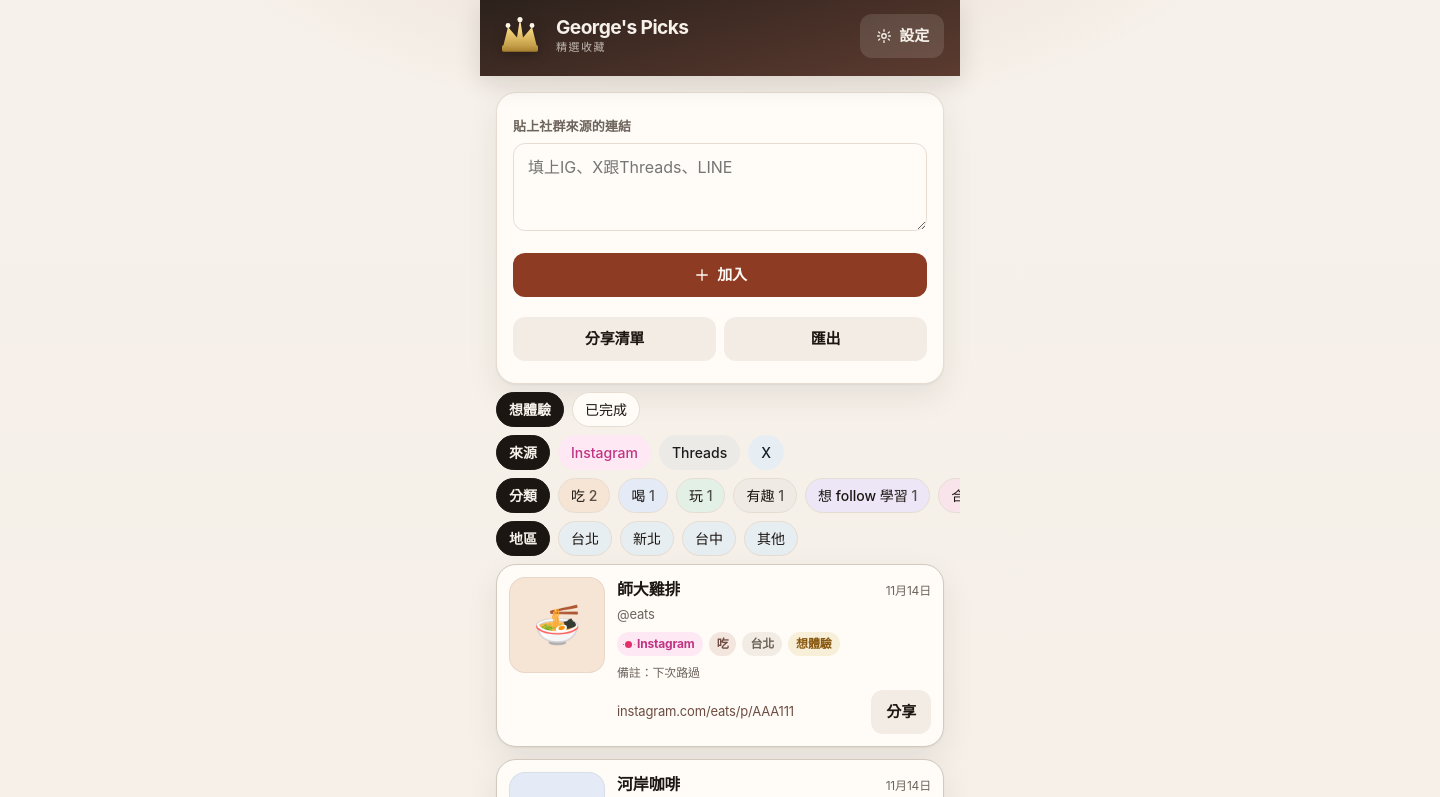
功能: 清單、篩選與地區 › 情境: 以想體驗與已完成分頁檢視
This screenshot has width=1440, height=797.
Later steps or results of the test are not shown.
Expected: the heading "George's Picks" is shown, [556,16,688,38]
Click the button "想體驗" at x=530, y=409, box [496,392,564,426]
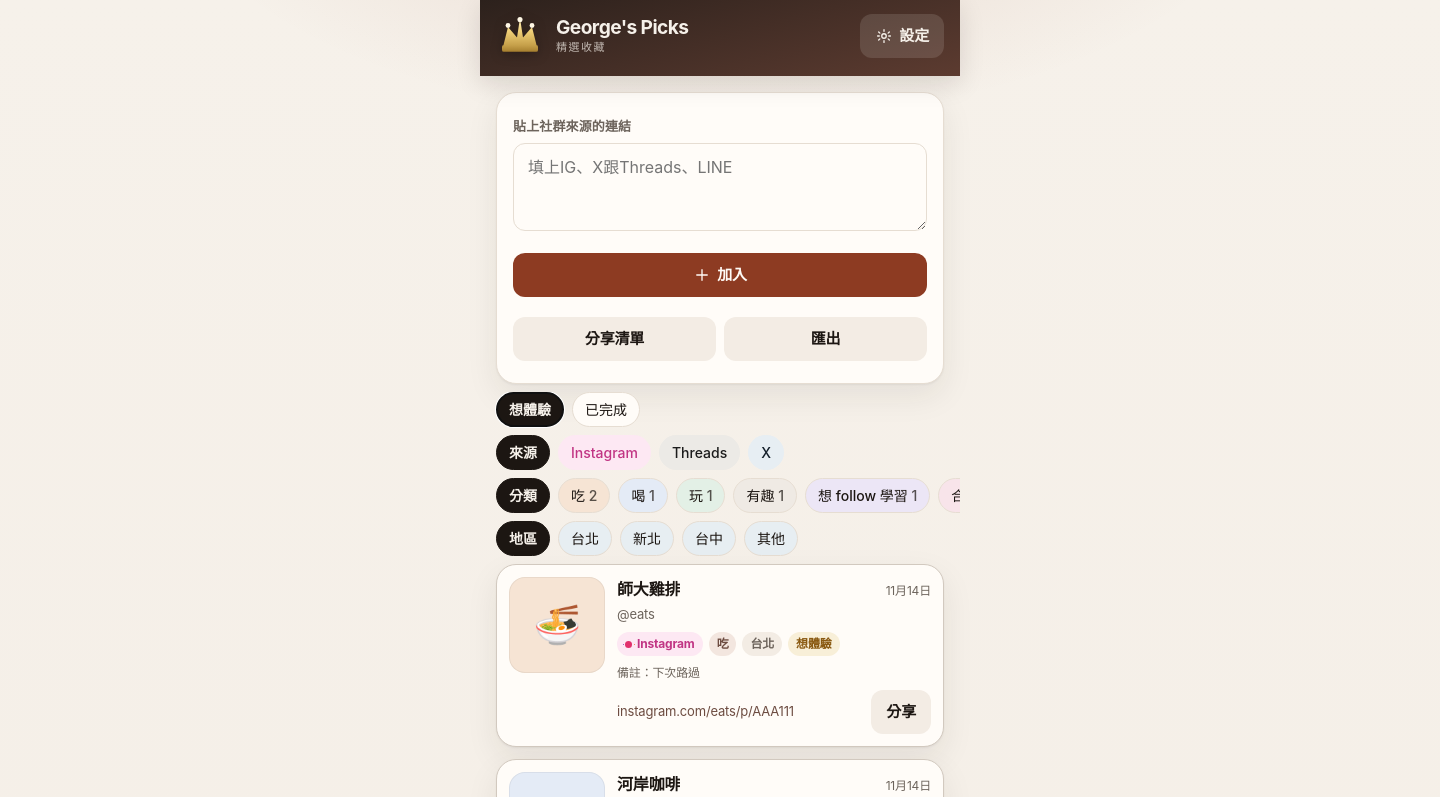
Expected: the text "想體驗" is shown, [788,632,840,656]
Click the button "已完成" at x=606, y=409, box [572,392,640,426]
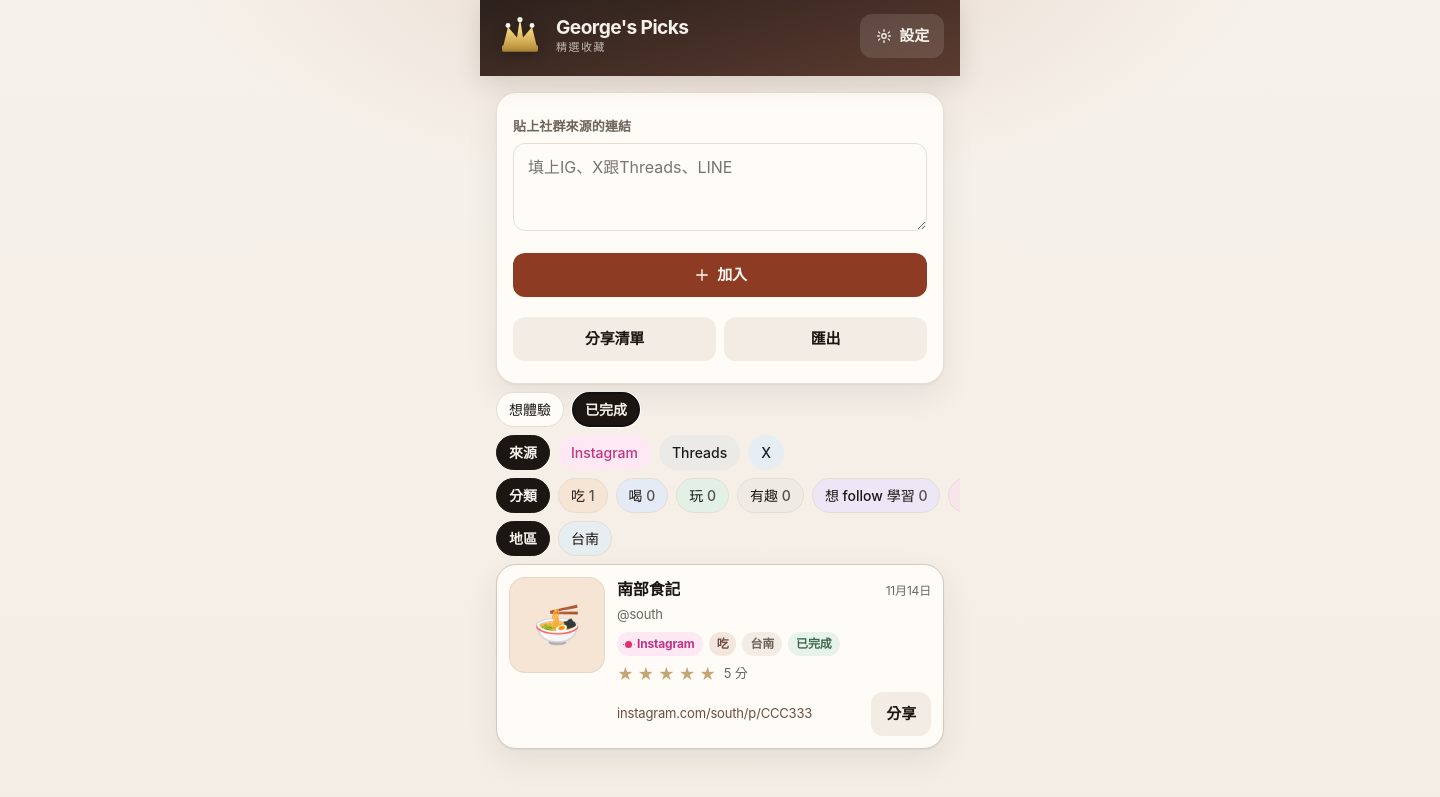
Expected: the text "已完成" is shown, [788,632,840,656]
